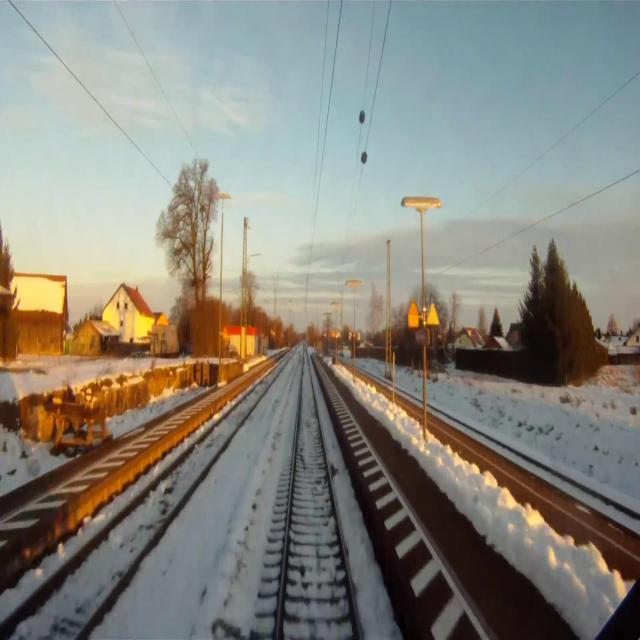rail-track: (0, 363, 283, 639), (281, 353, 358, 639)
